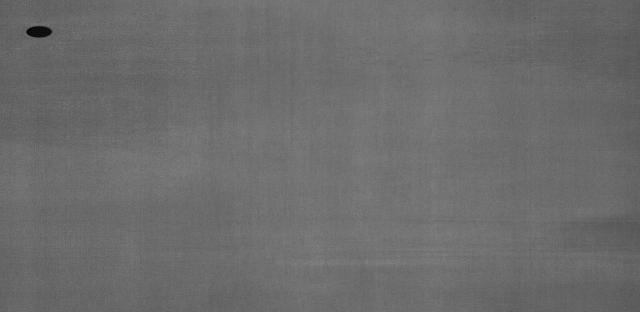punching_hole: (20, 22, 56, 43)
